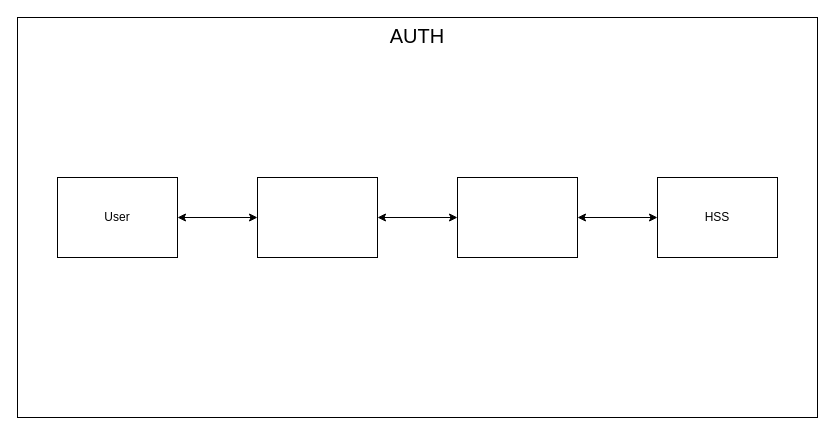
Image size: 835x435. Some labels were removed from this diagram. Each missing label, with the centre of its shape:
"BS" goes at pixel 317 217.
"MME" goes at pixel 517 217.
